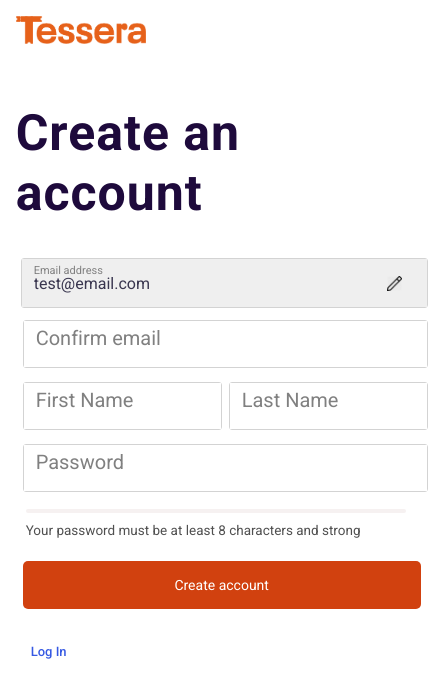
signup › when pressing the submit button with empty password error will appear
Click the button "Create account": (222, 586) [23,562,421,610]
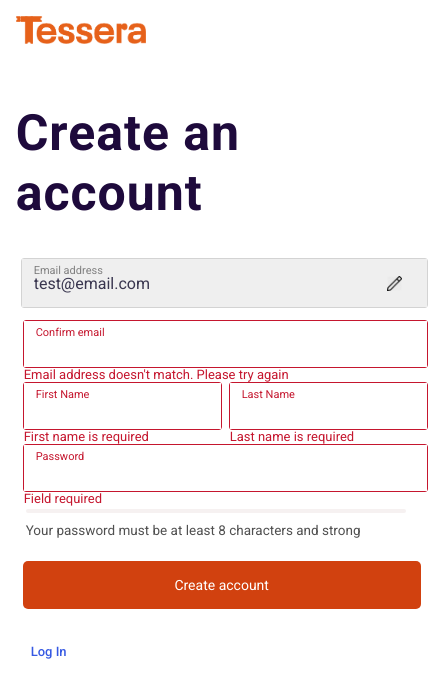
Expected: the text "Field required" is shown, [24,491,102,501]
